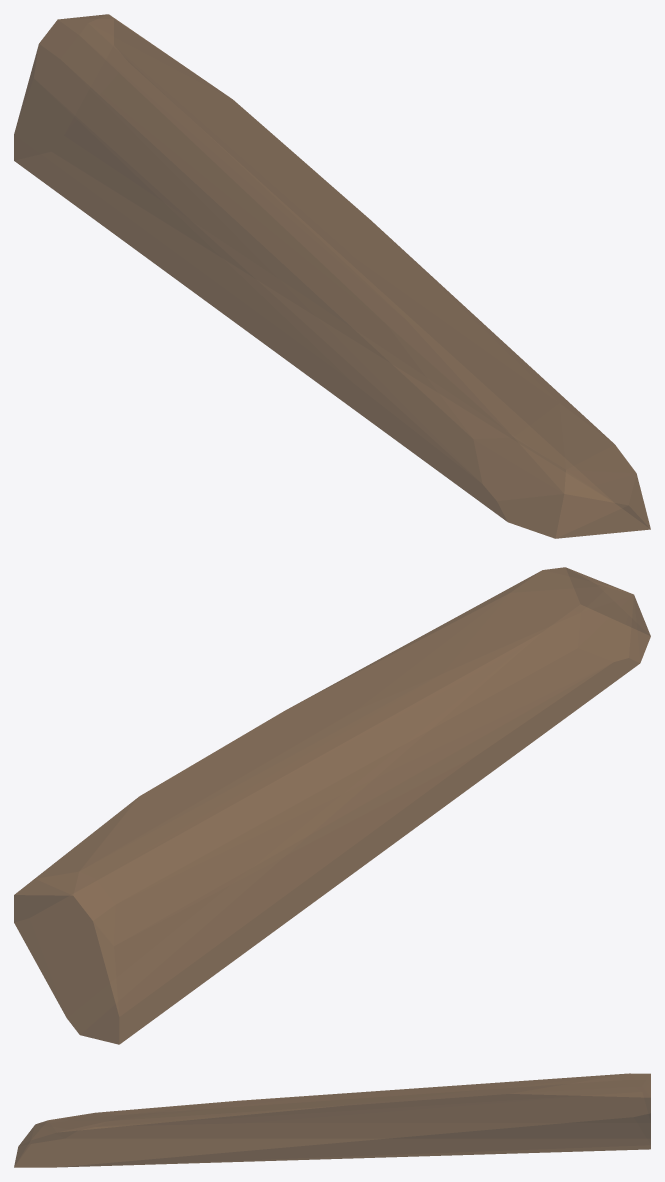
3 views of the same model, one above another, from view 1: azimuth 30°, elevation 25°; view 2: azimuth 150°, elevation 25°; view 3: azimuth 270°, elevation 25° (orthographic). The views are drawn at different scales.
Parts seen in each view (by area): view 1: Shape_IndexedFaceSet.021_Shape_IndexedFaceSet.4440; view 2: Shape_IndexedFaceSet.021_Shape_IndexedFaceSet.4440; view 3: Shape_IndexedFaceSet.021_Shape_IndexedFaceSet.4440.
Part boxes in pixels (bbox=[...]): Shape_IndexedFaceSet.021_Shape_IndexedFaceSet.4440: bbox=[14, 14, 650, 538]; Shape_IndexedFaceSet.021_Shape_IndexedFaceSet.4440: bbox=[14, 567, 650, 1044]; Shape_IndexedFaceSet.021_Shape_IndexedFaceSet.4440: bbox=[14, 1073, 650, 1167].
Bounding box in the file's own units: 0.00513 × 0.00673 × 0.0477.
